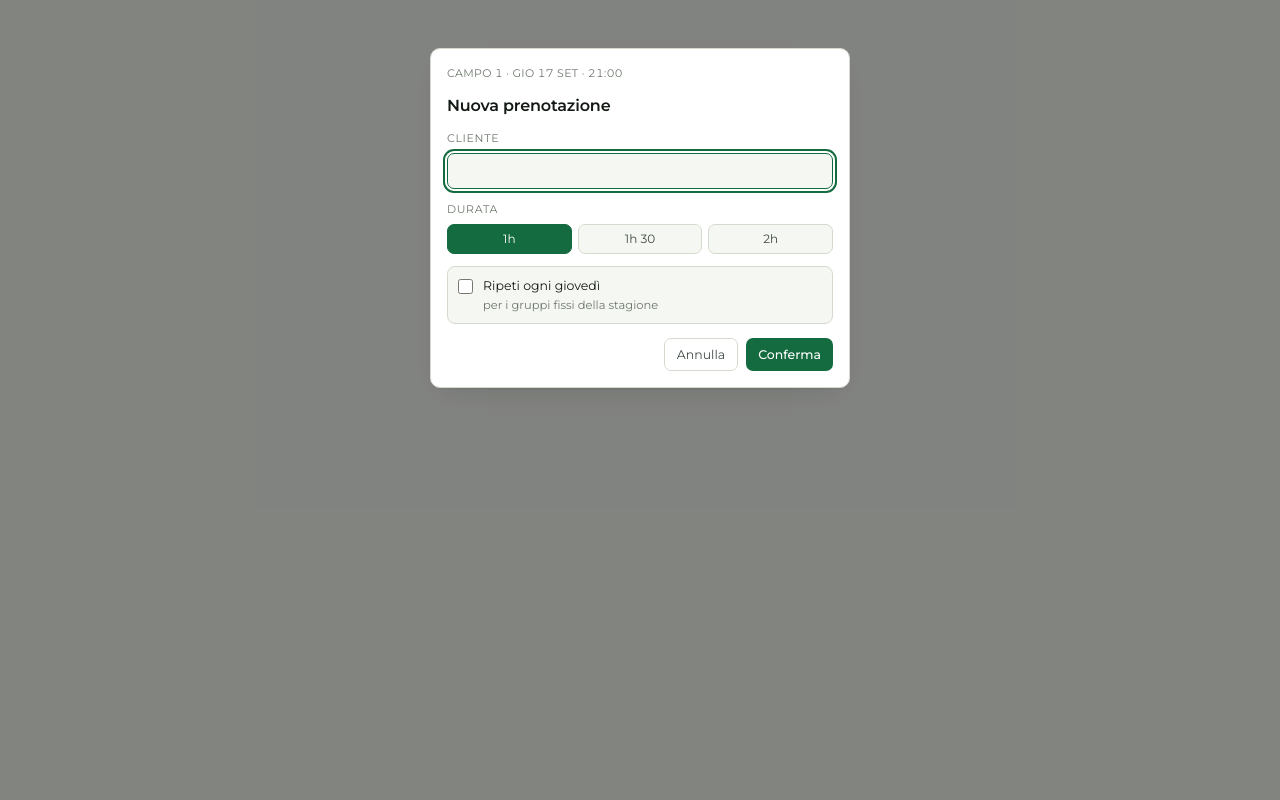
Test case: NewBookingDialog — riconoscere chi telefona › senza numero non crea il cliente e dice cosa manca
Type "Mario Neri" into the field labelled "Cliente".
click(640, 171); type("Mario Neri")  # box left=447, top=153, right=833, bottom=189
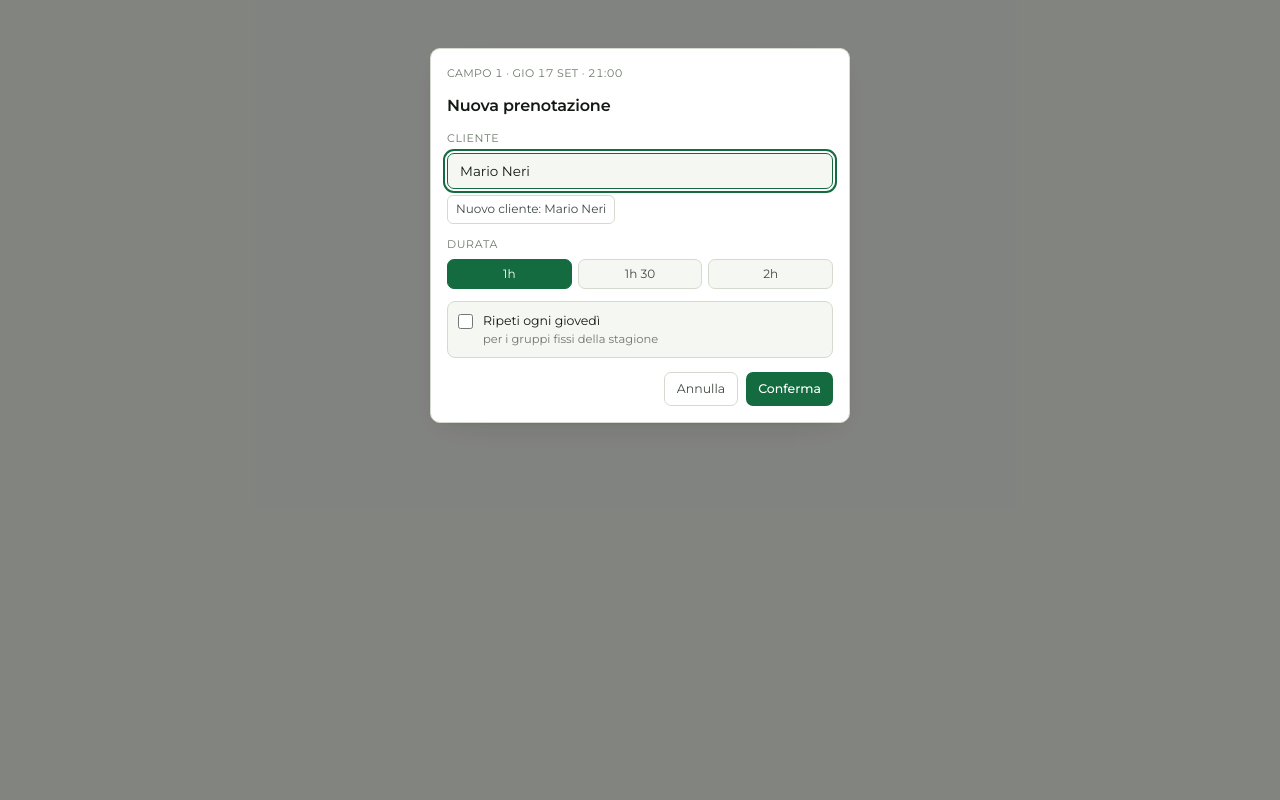
Click the button "Nuovo cliente: Mario Neri".
click(531, 209)  # box left=447, top=195, right=615, bottom=224
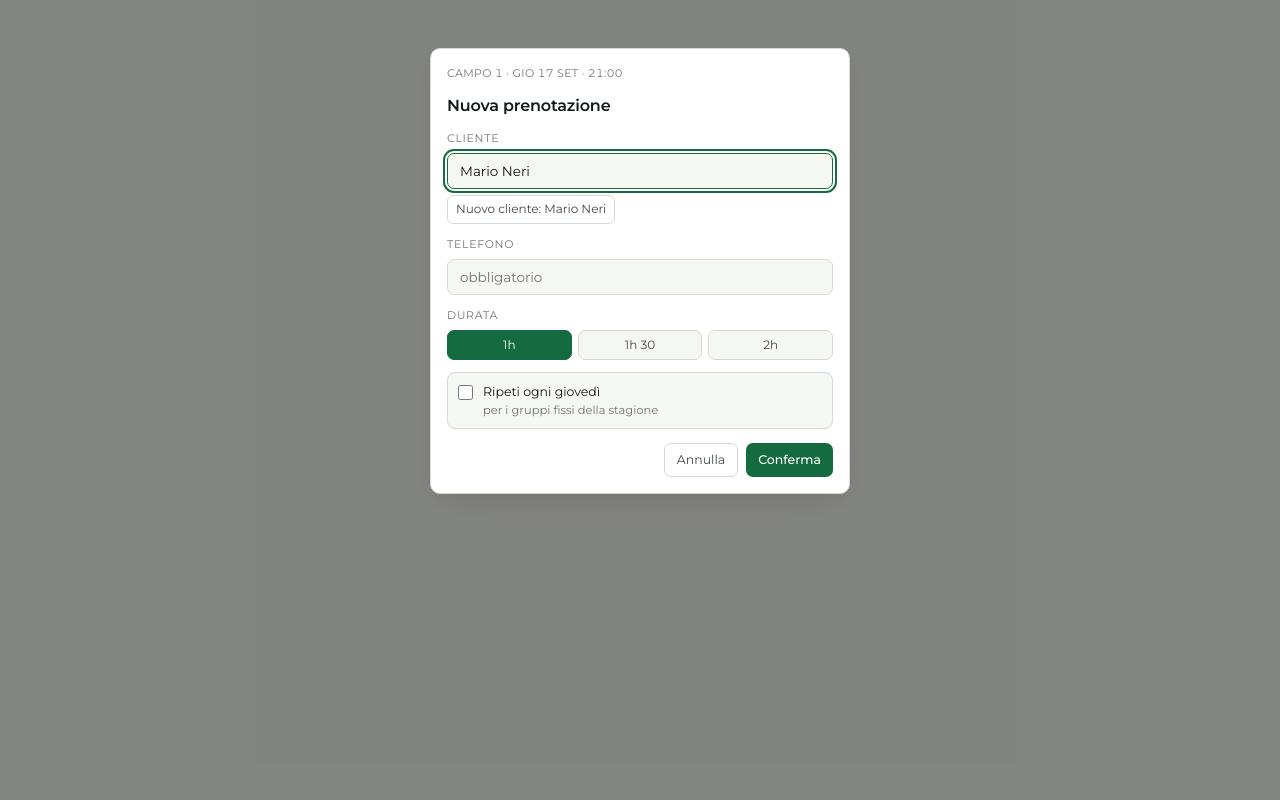
Click the button "Conferma".
click(790, 460)  # box left=746, top=443, right=833, bottom=477
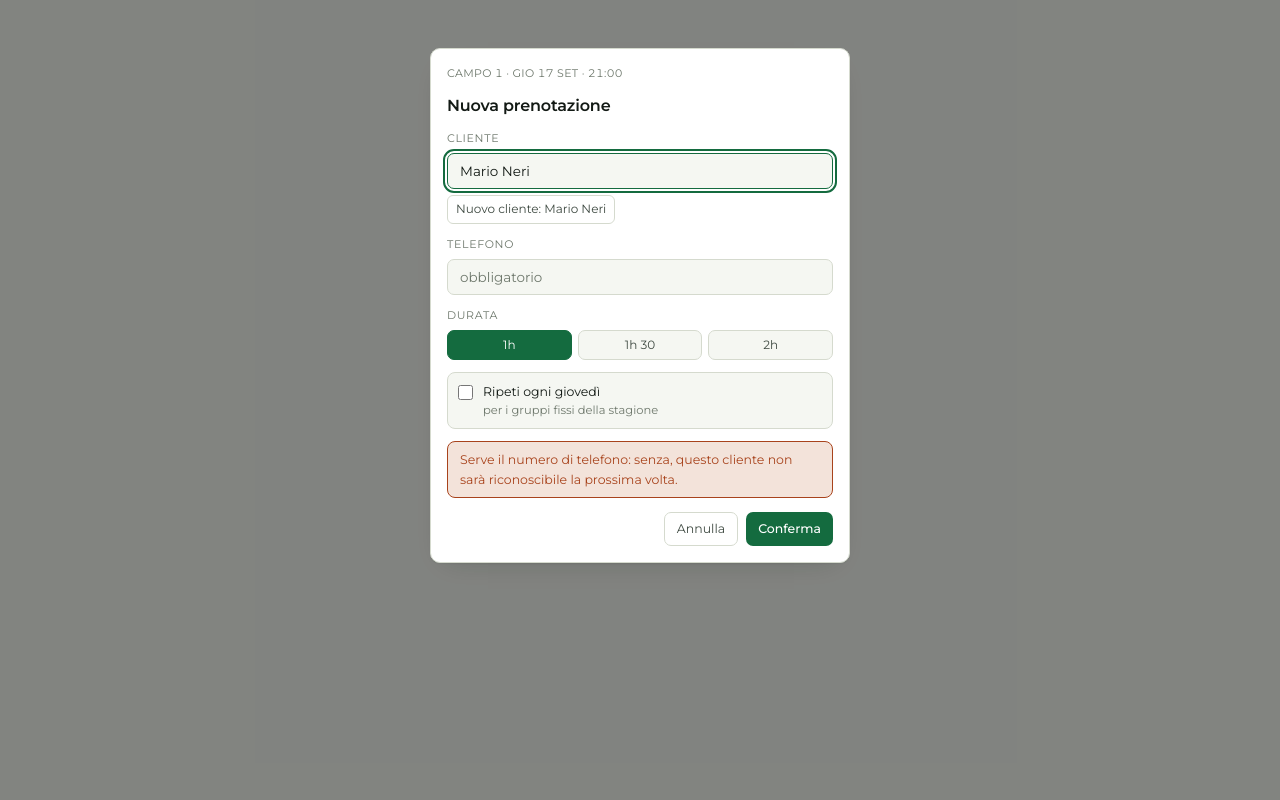
Expected: the text "Serve il numero di telefono: senza, questo cliente non sarà riconoscibile la prossima volta." is shown, left=460, top=452, right=792, bottom=487
